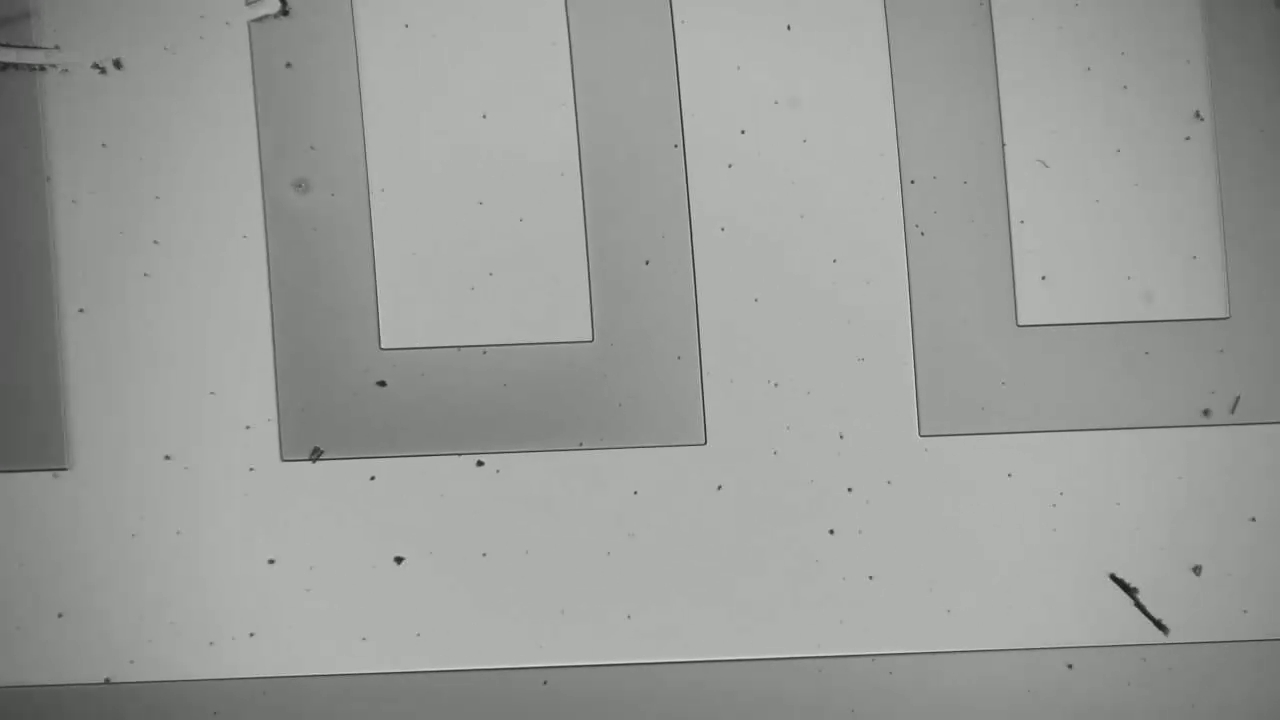Short_circuit: (1, 29, 71, 88)
